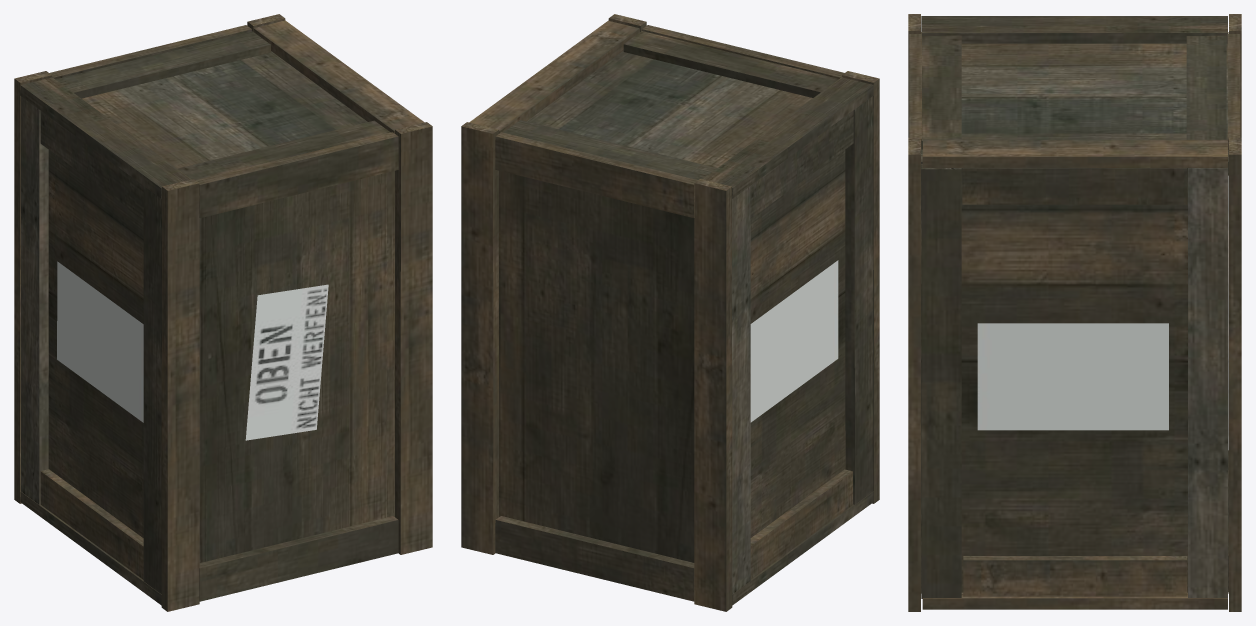
Rendered from prop_crate_wehrmacht6.glb.
3 renders of one model, left to right at view 1: azimuth 30°, elevation 25°; view 2: azimuth 150°, elevation 25°; view 3: azimuth 270°, elevation 25°, orthographic. The views are drawn at different scales.
Bounding box in the file's own units: 23.76 × 36.07 × 23.82.
Materials: 2 (2 with a texture image).
